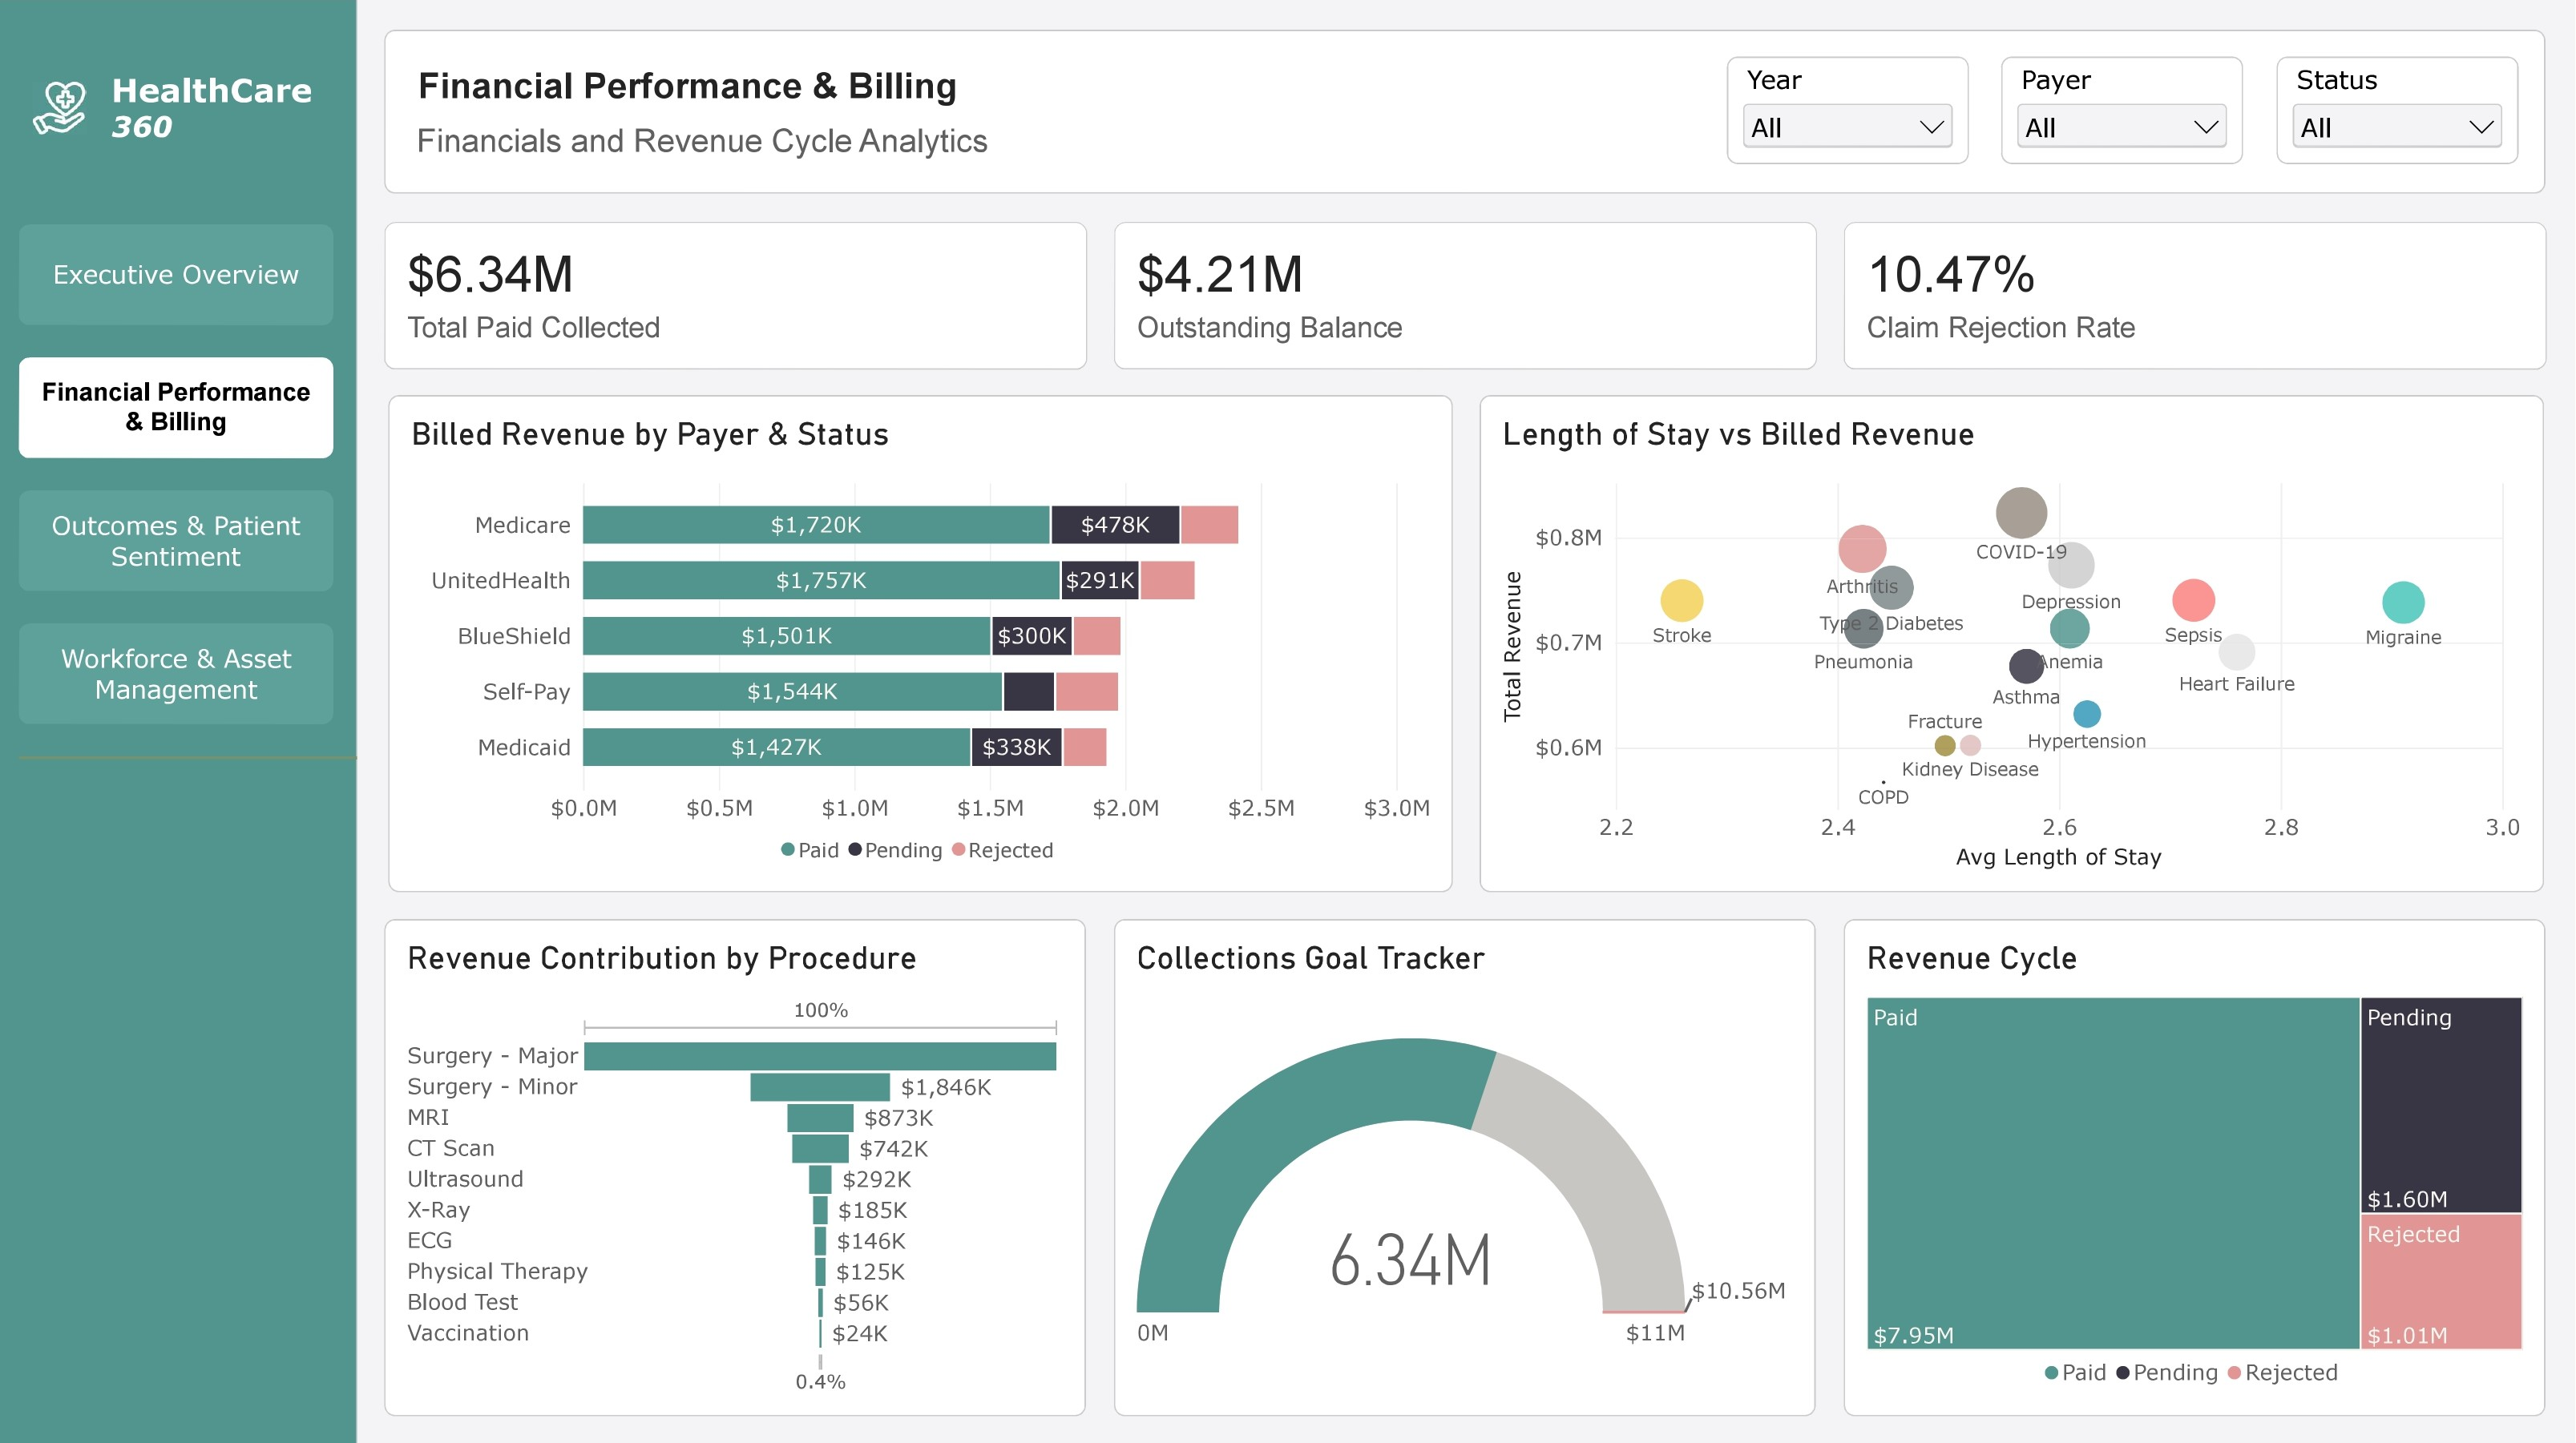

Layout of this report page (visuals, bound fields, positions):
{"tool":"powerbi","page":{"name":"Financial Performance & Billing","canvas":[1920,1080],"ordinal":1},"visuals":[{"type":"shape","box":[290,22.5,1607.5,122.5],"z":0},{"type":"textbox","box":[86.4,53.2,168.1,79.5],"z":0,"group":"g1"},{"type":"shape","box":[0,0,270,1080],"z":1000},{"type":"group","id":"g1","title":"Group 1","box":[86.4,53.2,168.1,79.5],"z":2000,"group":"g2"},{"type":"cardVisual","fields":{"Data":["_Measures.Total Paid Amount","_Measures.Outstanding Balance","_Measures.Claim Rejection Rate"]},"box":[290,166,1610,110],"z":2000},{"type":"pageNavigator","box":[18.2,168.1,233.9,372.5],"z":3000},{"type":"shape","box":[17.7,540,252.3,50],"z":4000},{"type":"textbox","box":[315,50,447.5,42.5],"z":6000},{"type":"textbox","box":[314,92,622,44],"z":7000},{"type":"slicer","fields":{"Values":["Dim_Date.Year"]},"box":[1288.5,43.3,180,80],"z":8000},{"type":"slicer","fields":{"Values":["Dim_Insurance.PayerName"]},"box":[1493,43.3,180,80],"z":9000},{"type":"slicer","fields":{"Values":["Fact_Billing.Status"]},"box":[1697.5,43.3,180,80],"z":10000},{"type":"treemap","title":"Revenue Cycle","fields":{"Group":["Fact_Billing.Status"],"Values":["_Measures.Total Revenue"]},"box":[1376.4,685.3,522,370],"z":11000},{"type":"barChart","title":"Billed Revenue by Payer & Status","fields":{"Category":["Dim_Insurance.PayerName"],"Series":["Fact_Billing.Status"],"Y":["_Measures.Total Revenue"]},"box":[292.5,295,792,370],"z":12000},{"type":"funnel","title":"Revenue Contribution by Procedure","fields":{"Category":["Dim_Procedures.ProcedureName"],"Y":["_Measures.Total Revenue"]},"box":[290,685.3,522,370],"z":13000},{"type":"scatterChart","title":"Length of Stay vs Billed Revenue","fields":{"Category":["Dim_Diagnosis.DiagnosisDescription"],"Size":["_Measures.Total Revenue"],"X":["_Measures.Avg Length of Stay"],"Y":["_Measures.Total Revenue"]},"box":[1105,295,792,370],"z":14000},{"type":"gauge","title":"Collections Goal Tracker","fields":{"MaxValue":["_Measures.Total Revenue"],"TargetValue":["_Measures.Total Revenue"],"Y":["_Measures.Total Paid Amount"]},"box":[833.2,685.3,522,370],"z":15000},{"type":"group","id":"g2","title":"Group 2","box":[18.8,53.2,235.6,79.5],"z":15001},{"type":"image","box":[18.8,62.3,59.1,38.6],"z":16000,"group":"g2"}]}

Visuals, with their boxes on the page's 1920x1080 design canvas (x1, y1, x2, y2). These are canvas units, not pixel positions in the 2576x1443 screenshot, which may show the page scaled, cropped or inside an application window:
shape: bbox(290, 22, 1898, 145)
textbox: bbox(86, 53, 254, 133)
shape: bbox(0, 0, 270, 1080)
"Group 1" group: bbox(86, 53, 254, 133)
cardVisual - _Measures.Total Paid Amount x _Measures.Outstanding Balance: bbox(290, 166, 1900, 276)
pageNavigator: bbox(18, 168, 252, 541)
shape: bbox(18, 540, 270, 590)
textbox: bbox(315, 50, 762, 92)
textbox: bbox(314, 92, 936, 136)
slicer - Dim_Date.Year: bbox(1288, 43, 1468, 123)
slicer - Dim_Insurance.PayerName: bbox(1493, 43, 1673, 123)
slicer - Fact_Billing.Status: bbox(1698, 43, 1878, 123)
"Revenue Cycle" treemap: bbox(1376, 685, 1898, 1055)
"Billed Revenue by Payer & Status" barChart: bbox(292, 295, 1084, 665)
"Revenue Contribution by Procedure" funnel: bbox(290, 685, 812, 1055)
"Length of Stay vs Billed Revenue" scatterChart: bbox(1105, 295, 1897, 665)
"Collections Goal Tracker" gauge: bbox(833, 685, 1355, 1055)
"Group 2" group: bbox(19, 53, 254, 133)
image: bbox(19, 62, 78, 101)
